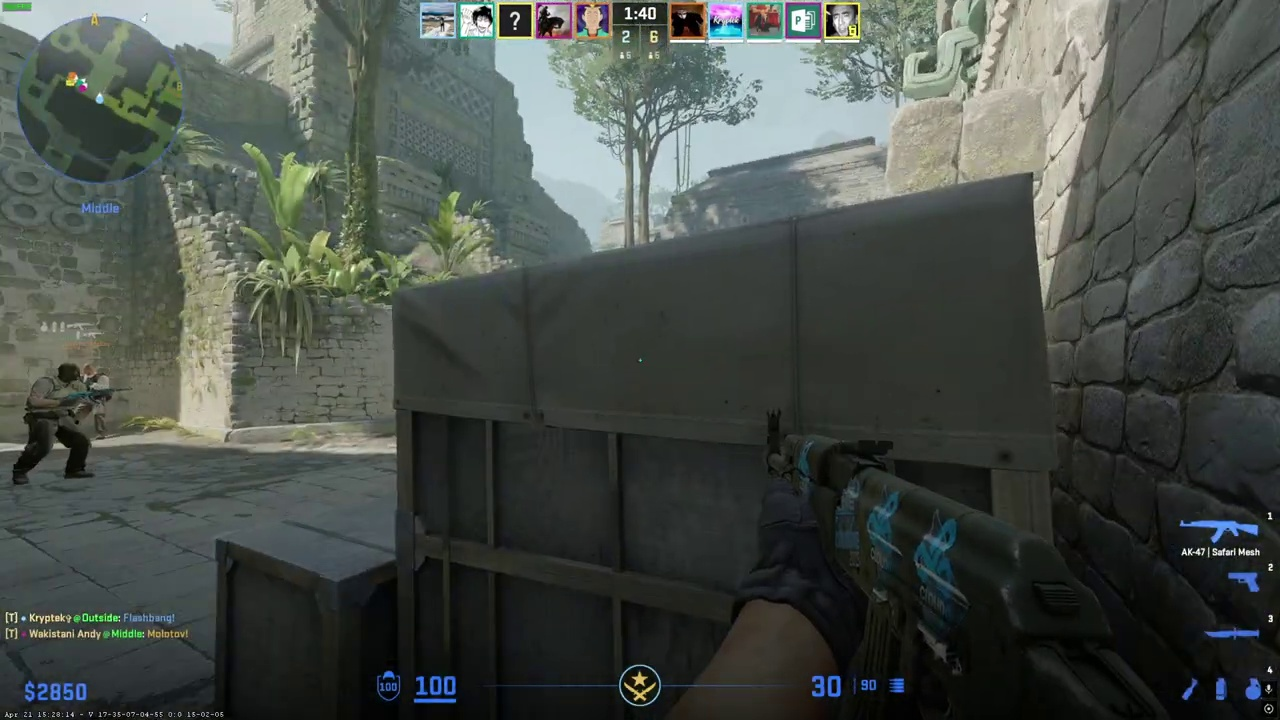Terrorist: (12, 360, 98, 489)
